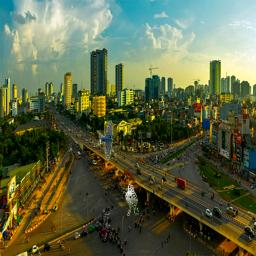Sparrow: (125, 184, 139, 216)
Swallow: (96, 120, 113, 160)
